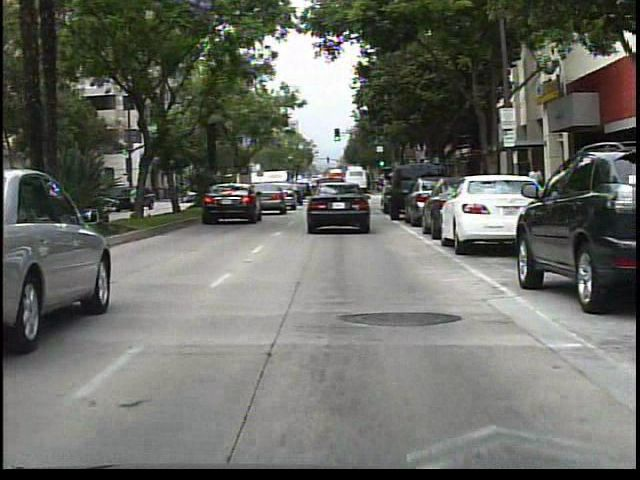person: (524, 157, 548, 223)
